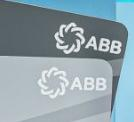ABB: (53, 20, 86, 54), (36, 67, 68, 99)
